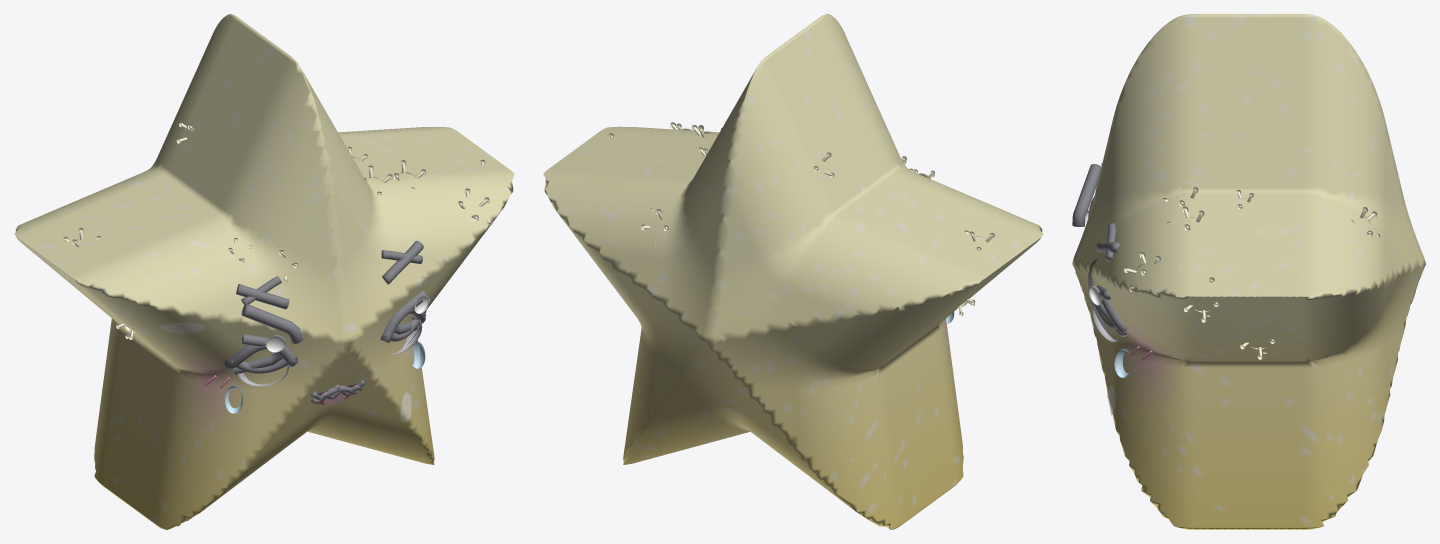
The model's file is v_star_slime.glb.
3 views of the same model, side by side, from view 1: azimuth 30°, elevation 25°; view 2: azimuth 150°, elevation 25°; view 3: azimuth 270°, elevation 25° (orthographic). The views are drawn at different scales.
Parts seen in each view (by area): view 1: BodyMesh, face_eyes_happy, face_brows_angry, face_eyes_strain, face_eyes_normal, face_brow_smug, face_eyes_closed, face_brows_sad; view 2: BodyMesh; view 3: BodyMesh, face_brow_smug, face_eyes_normal.
Part boxes in pixels (bbox=[...]): BodyMesh: bbox=[14, 14, 514, 529]; face_eyes_happy: bbox=[224, 307, 425, 370]; face_brows_angry: bbox=[236, 240, 423, 309]; face_eyes_strain: bbox=[233, 290, 426, 374]; face_eyes_normal: bbox=[232, 292, 429, 386]; face_brow_smug: bbox=[241, 304, 302, 343]; face_eyes_closed: bbox=[228, 314, 426, 373]; face_brows_sad: bbox=[241, 250, 422, 305]; BodyMesh: bbox=[543, 14, 1043, 529]; BodyMesh: bbox=[1072, 14, 1425, 529]; face_brow_smug: bbox=[1072, 164, 1100, 226]; face_eyes_normal: bbox=[1084, 196, 1120, 341].
Size of the model in its own units: 1.88 by 1.79 by 1.28.
